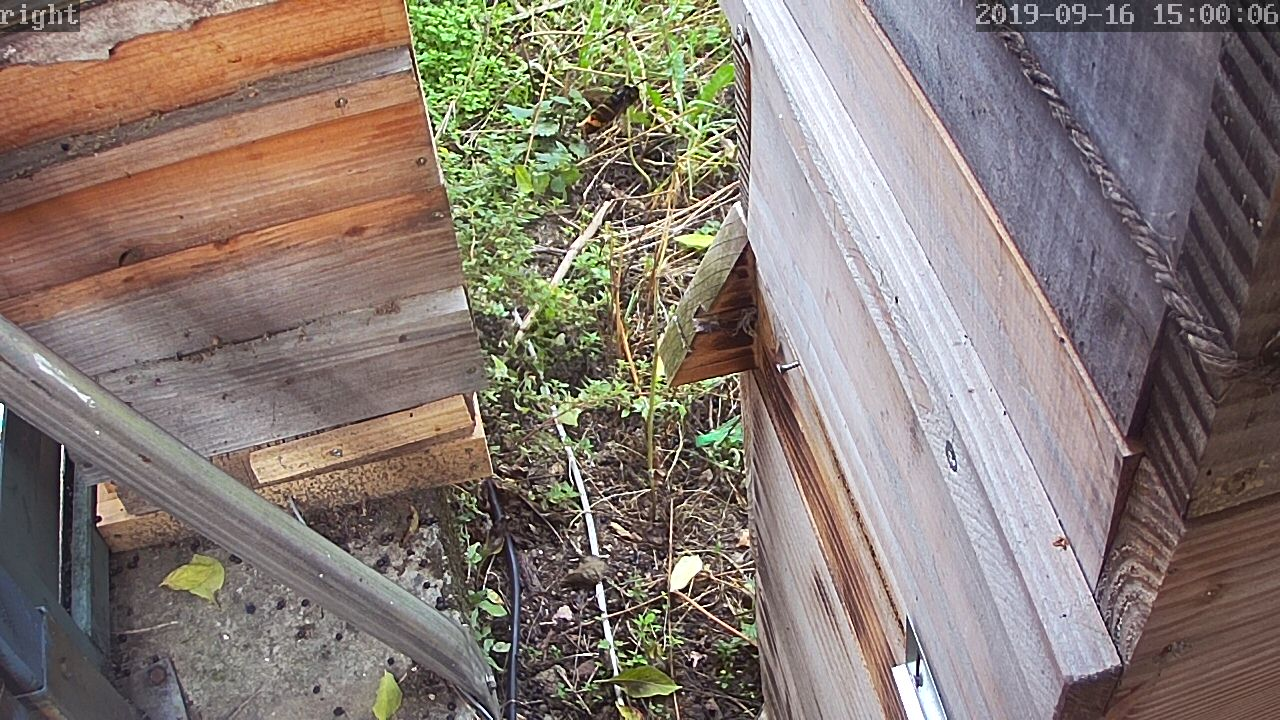hornet: (574, 78, 641, 138)
